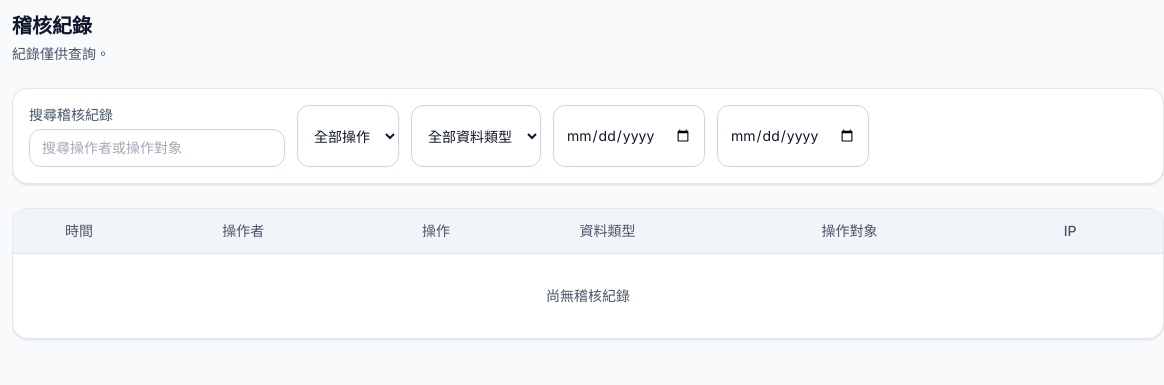
Global status presentation › distinguishes an audit filter miss and clears only when there is an actionable filter
The image size is (1164, 385).
Expected: the text "尚無稽核紀錄" is shown, [13,254,1163,338]
Type "不存在" into the search field with placeholder "搜尋操作者或操作對象" at (157, 148), box [29,129,285,167]
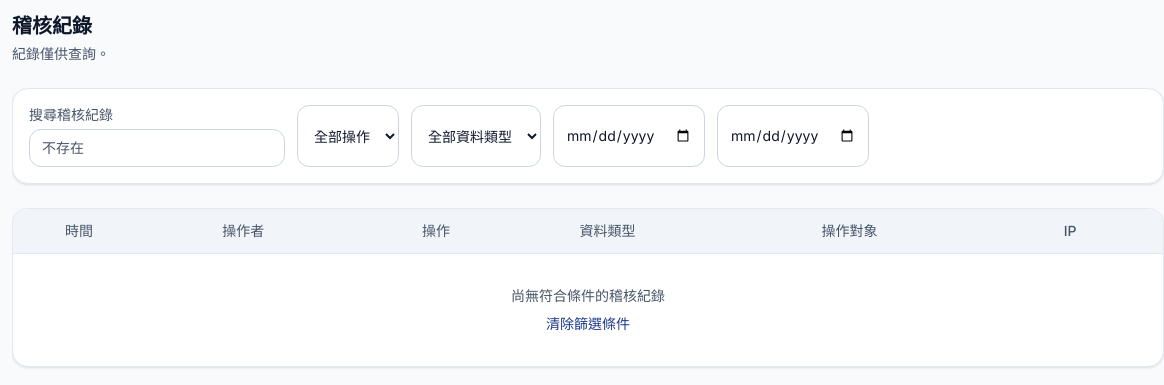
Result: the text "尚無符合條件的稽核紀錄" is shown at [511,286,665,306]
Click the button "清除篩選條件" at (588, 324), box [546,314,630,334]
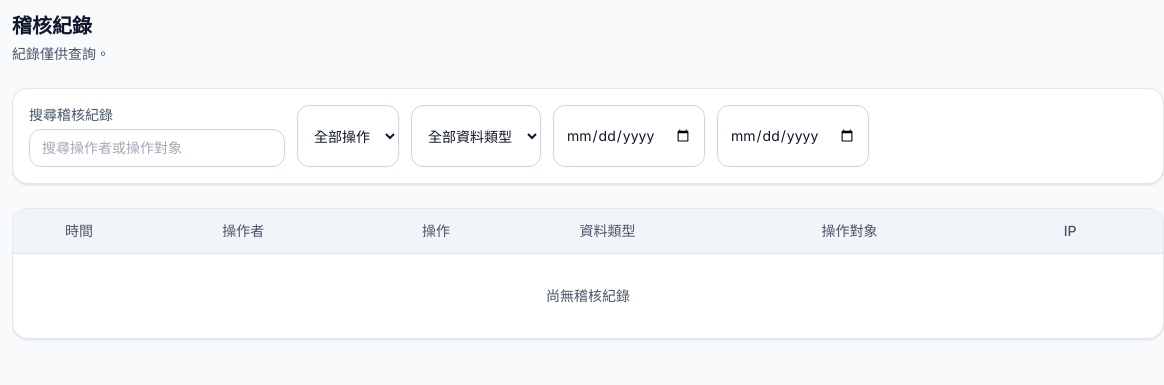
Result: the text "尚無稽核紀錄" is shown at [13,254,1163,338]
Result: the button "清除篩選條件" is gone
